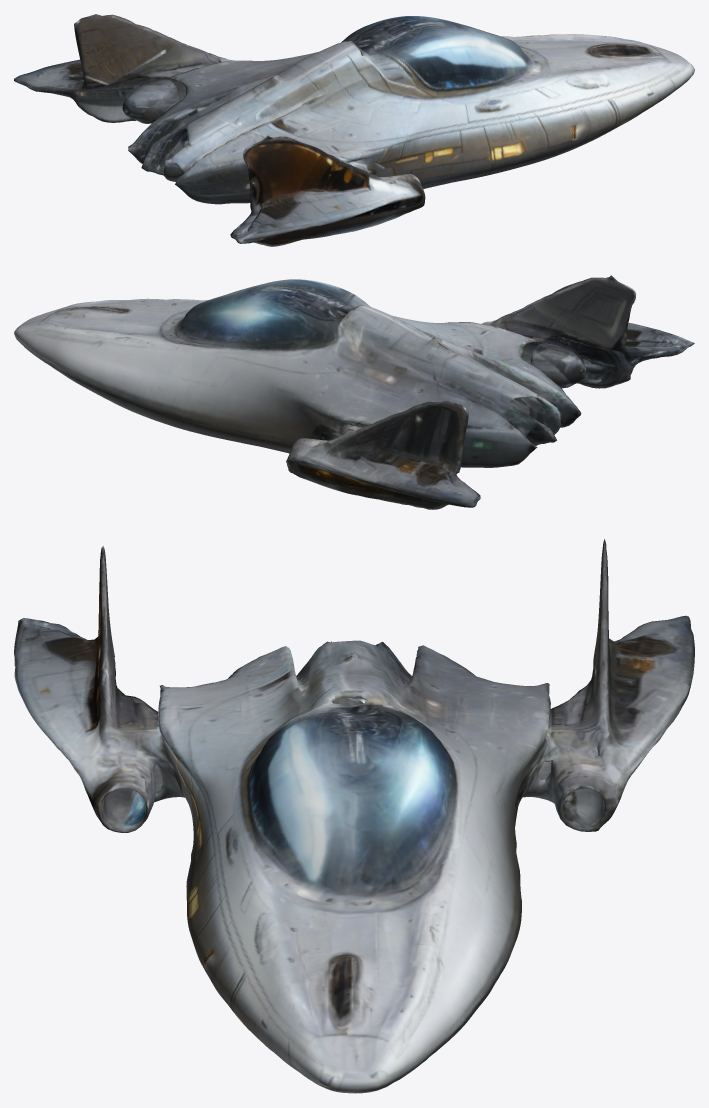
File: Kapal1.glb
3 views of the same model, one above another, from view 1: azimuth 30°, elevation 25°; view 2: azimuth 150°, elevation 25°; view 3: azimuth 270°, elevation 25° (orthographic). The views are drawn at different scales.
Size of the model in its own units: 1.99 by 0.4696 by 1.4.
1 material, 1 textured.
